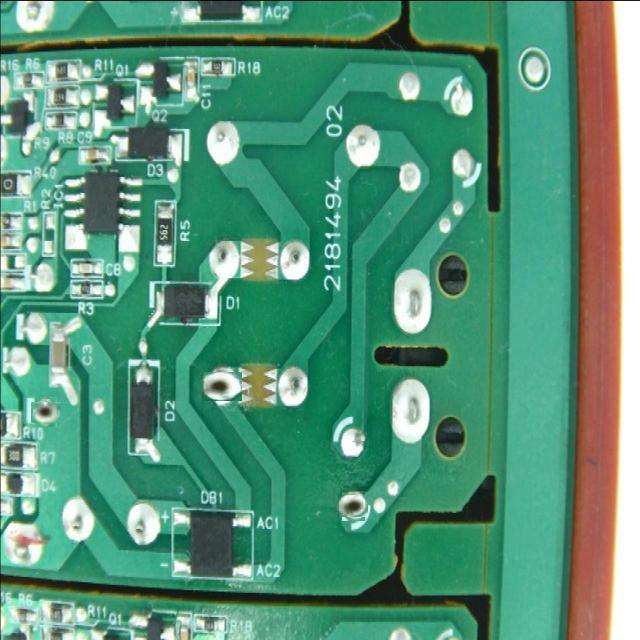damged: (204, 369, 240, 403), (340, 493, 367, 519), (33, 399, 59, 425)
